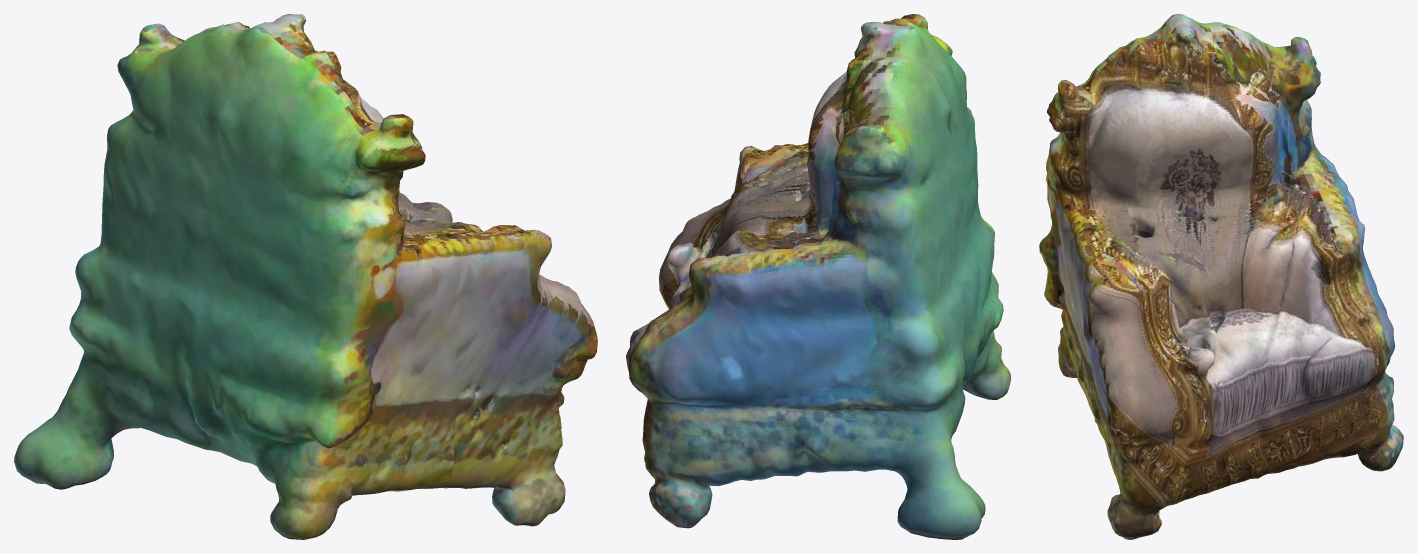
The picture shows the model from 3 angles, left to right: view 1: azimuth 30°, elevation 25°; view 2: azimuth 150°, elevation 25°; view 3: azimuth 270°, elevation 25°; orthographic projection. The views are drawn at different scales.
Parts seen in each view (by area): view 1: Mesh1; view 2: Mesh1; view 3: Mesh1.
Part boxes in pixels (box(x1,y1,x2,y2)): Mesh1: box(14, 14, 597, 539); Mesh1: box(626, 14, 1010, 539); Mesh1: box(1039, 14, 1403, 539).
Bounding box in the file's own units: 1.09 × 1.2 × 0.9254.
Materials: 1 (1 with a texture image).
